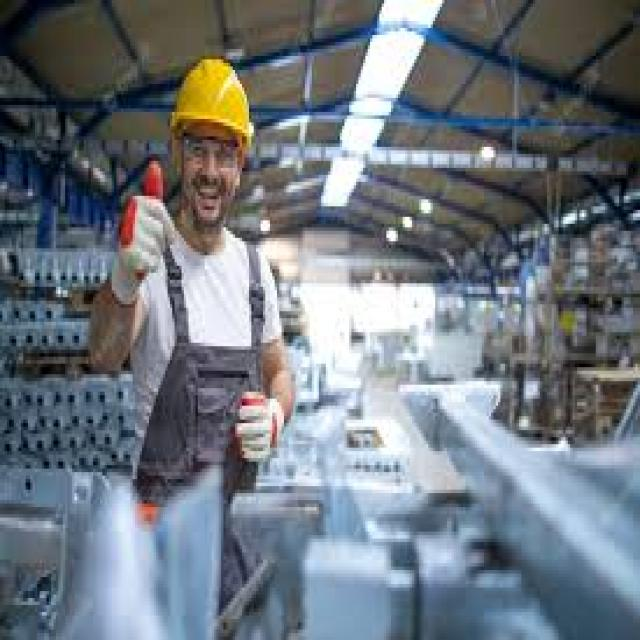Reflective-Jacket: (112, 206, 288, 490)
Safety-Helmet: (165, 52, 261, 154)
